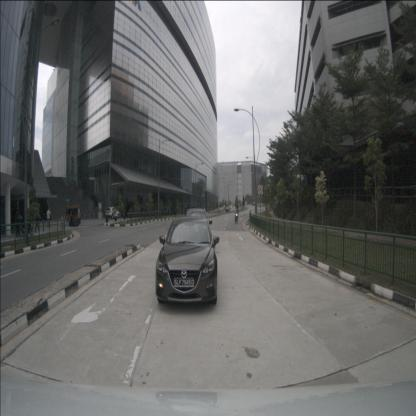human-pedestrian-adult: (15, 212, 22, 238), (35, 209, 41, 233), (46, 208, 51, 228), (69, 208, 74, 226)
vehicle-car: (156, 216, 218, 304), (186, 207, 208, 235), (105, 207, 120, 220)
vehicle-motorcycle: (22, 220, 34, 237), (235, 208, 239, 224)
vehicle-truck: (68, 205, 81, 226)
